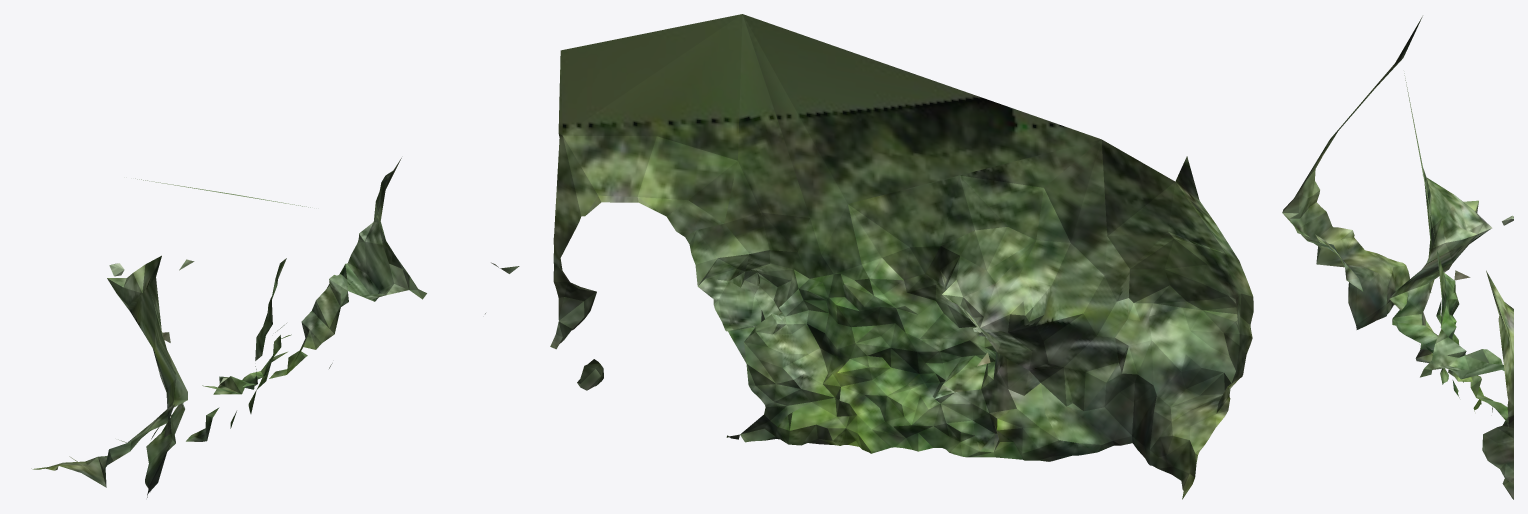
The picture shows the model from 3 angles, left to right: view 1: azimuth 30°, elevation 25°; view 2: azimuth 150°, elevation 25°; view 3: azimuth 270°, elevation 25°; orthographic projection. The views are drawn at different scales.
Size of the model in its own units: 26.11 by 16.9 by 11.03.
2 materials, 2 textured.
